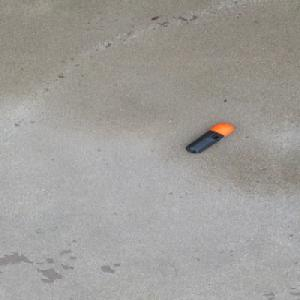PlasticPart: (185, 123, 234, 154)
